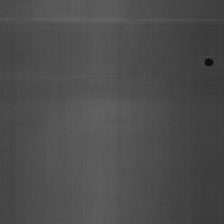punching_hole: (0, 12, 224, 32), (203, 54, 214, 70)
